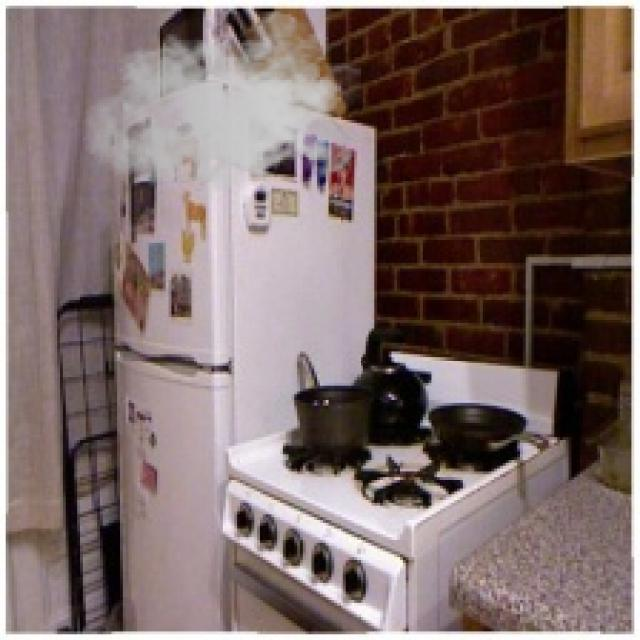smoke: (83, 12, 360, 212)
